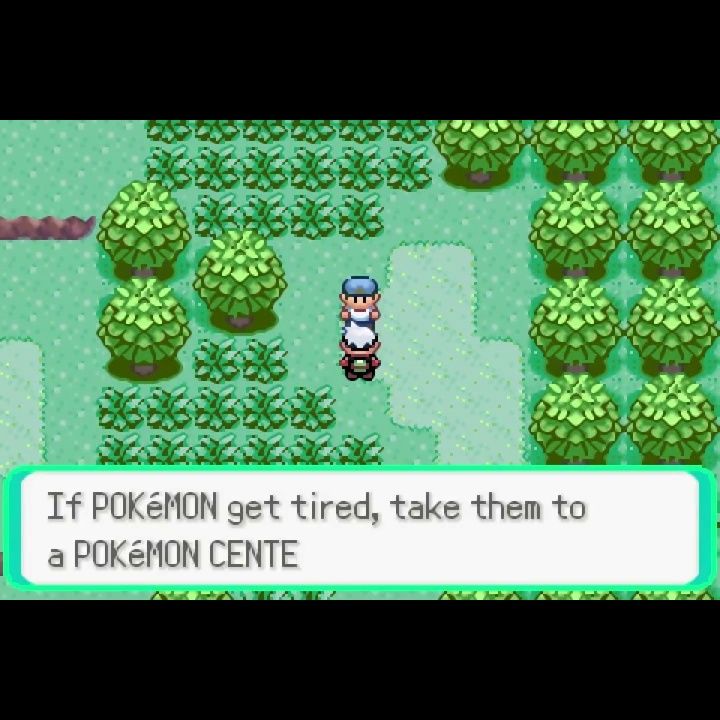grass: (287, 384, 338, 433), (239, 193, 291, 241), (336, 192, 386, 241), (191, 144, 241, 193), (287, 144, 337, 193), (191, 193, 240, 242), (240, 337, 289, 386), (241, 144, 290, 193), (336, 143, 385, 192), (384, 144, 432, 194), (144, 385, 192, 433), (193, 336, 241, 384), (144, 144, 191, 193), (290, 193, 337, 241), (97, 385, 144, 433), (193, 385, 240, 433), (240, 385, 287, 433), (286, 433, 338, 466), (95, 433, 148, 465), (336, 431, 384, 465), (192, 433, 241, 465), (146, 433, 193, 465), (241, 433, 286, 465), (383, 120, 433, 146), (241, 121, 291, 146), (190, 120, 241, 144), (289, 120, 338, 144), (145, 120, 192, 144), (337, 121, 385, 144)
npc: (336, 319, 383, 383), (337, 274, 383, 328)
wall: (191, 230, 289, 338), (96, 278, 194, 385), (96, 179, 194, 281), (528, 276, 624, 378), (624, 277, 720, 378), (624, 181, 720, 278), (622, 371, 720, 466), (528, 183, 625, 276), (527, 373, 625, 465), (432, 120, 527, 193), (527, 120, 625, 188), (624, 119, 720, 187)
